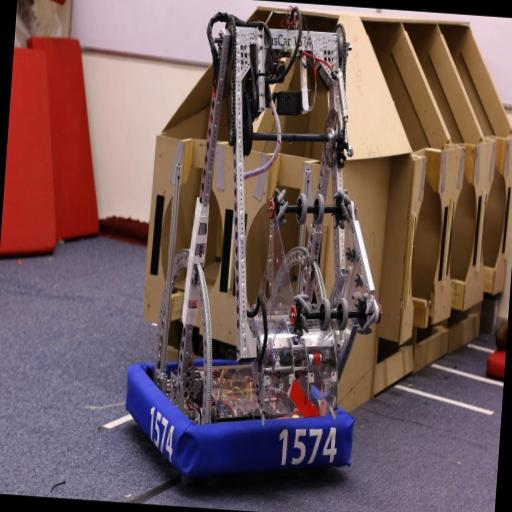robot: (118, 4, 383, 494)
